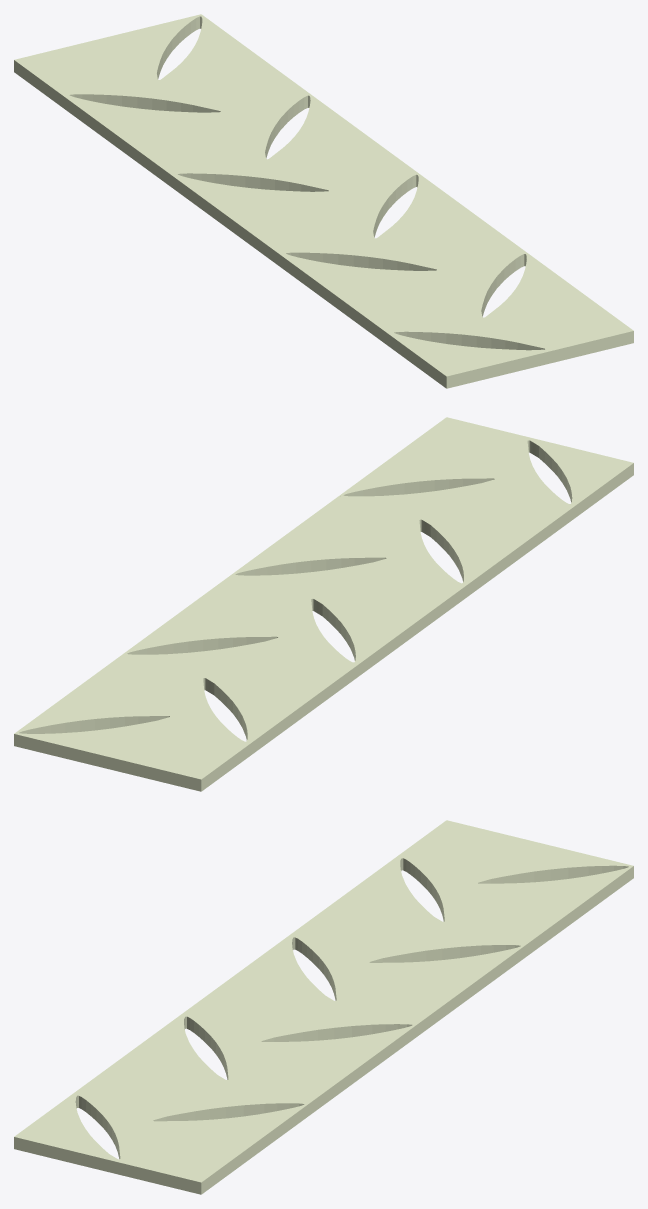
Rendered from STYLE 1.glb.
3 views of the same model, one above another, from view 1: azimuth 30°, elevation 25°; view 2: azimuth 150°, elevation 25°; view 3: azimuth 330°, elevation 25° (orthographic).
Visible parts, largest first — view 1: Plane002; view 2: Plane002; view 3: Plane002.
Part boxes in pixels (x1,y1,x2,y2): Plane002: (14, 14, 633, 388); Plane002: (14, 417, 633, 791); Plane002: (14, 820, 633, 1194).
Size of the model in its own units: 2.59 by 0.1619 by 10.36.
